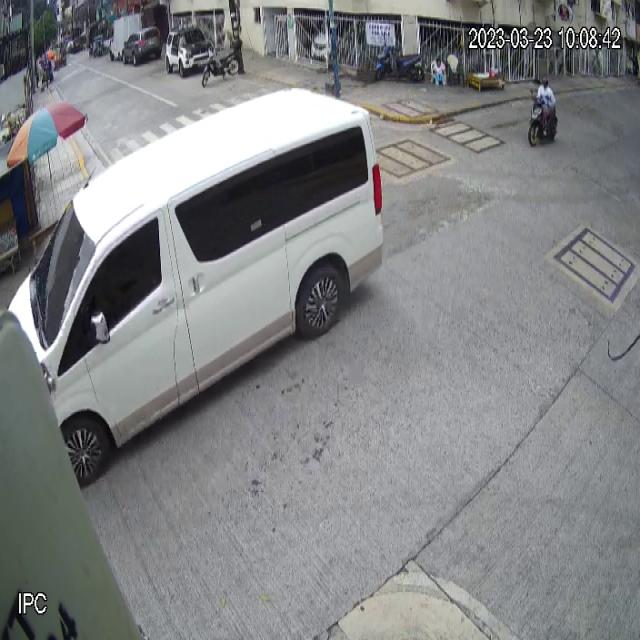Motorcycle: (528, 92, 559, 146)
Van: (7, 84, 385, 489)
